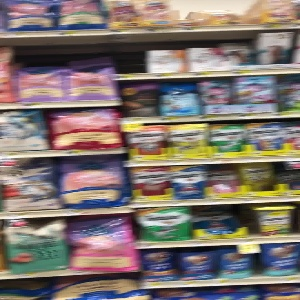void: (111, 33, 148, 74)
